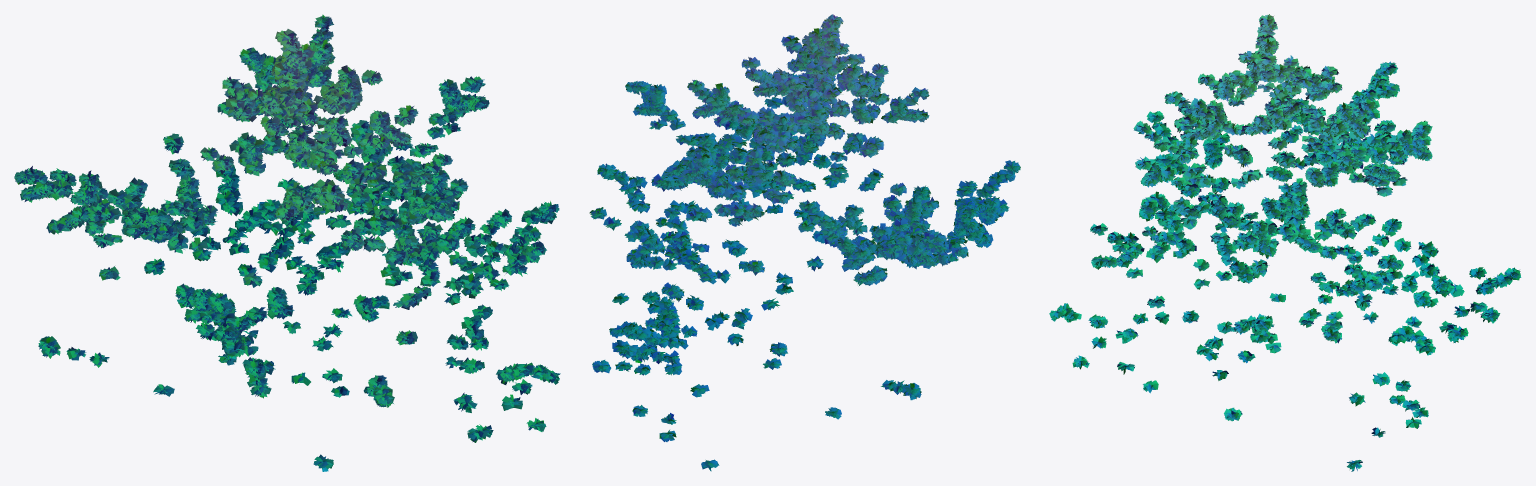
Rendered from canopy03_lod0.fbx.
3 views of the same model, side by side, from view 1: azimuth 30°, elevation 25°; view 2: azimuth 150°, elevation 25°; view 3: azimuth 270°, elevation 25° (orthographic). The views are drawn at different scales.
Parts seen in each view (by area): view 1: Foliage.001; view 2: Foliage.001; view 3: Foliage.001.
Part boxes in pixels (x1,y1,x2,y2): Foliage.001: [14, 14, 560, 471]; Foliage.001: [589, 14, 1020, 471]; Foliage.001: [1049, 14, 1521, 471].
Size of the model in its own units: 39012 by 40662 by 39790.
